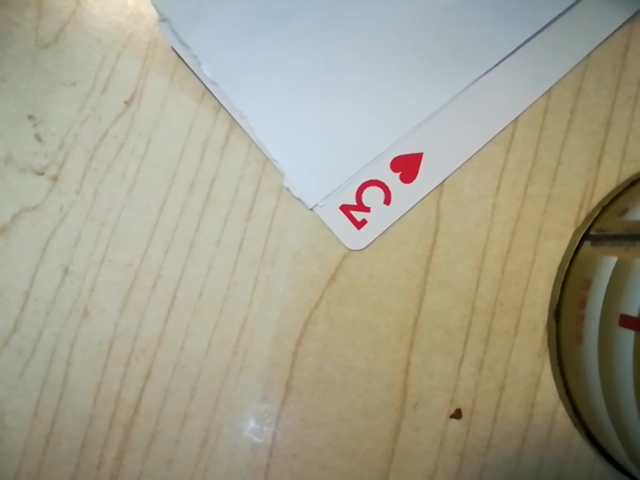hx 3: (327, 150, 425, 239)
